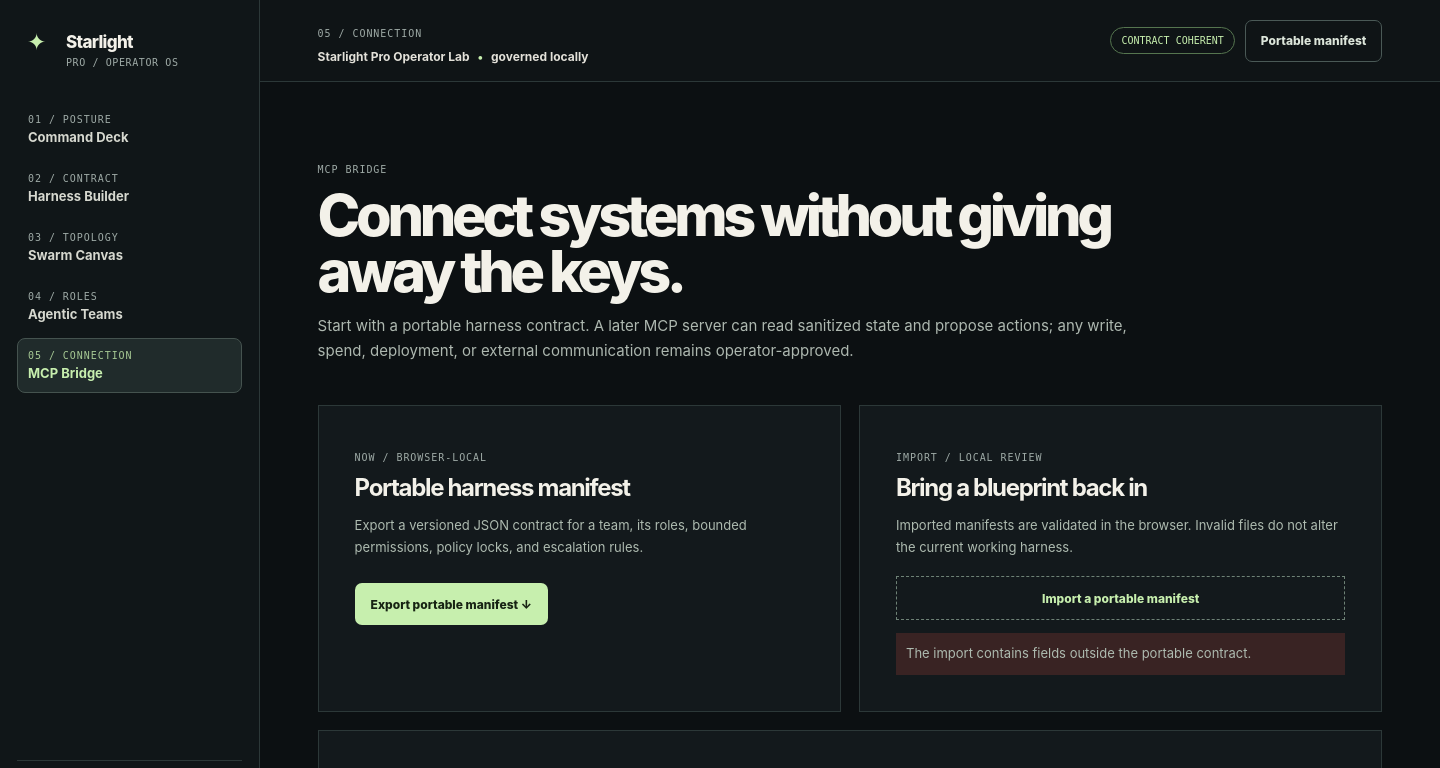
Test case: Starlight Pro workbench › rejects sensitive unknown import fields without mutating the active harness
This screenshot has width=1440, height=768.
Earlier steps of the test are not shown.
Expected: the message shows "outside the portable contract", left=906, top=645, right=1251, bottom=661
Click the button "02 / contract Harness Builder" at (130, 188), box left=17, top=161, right=242, bottom=216
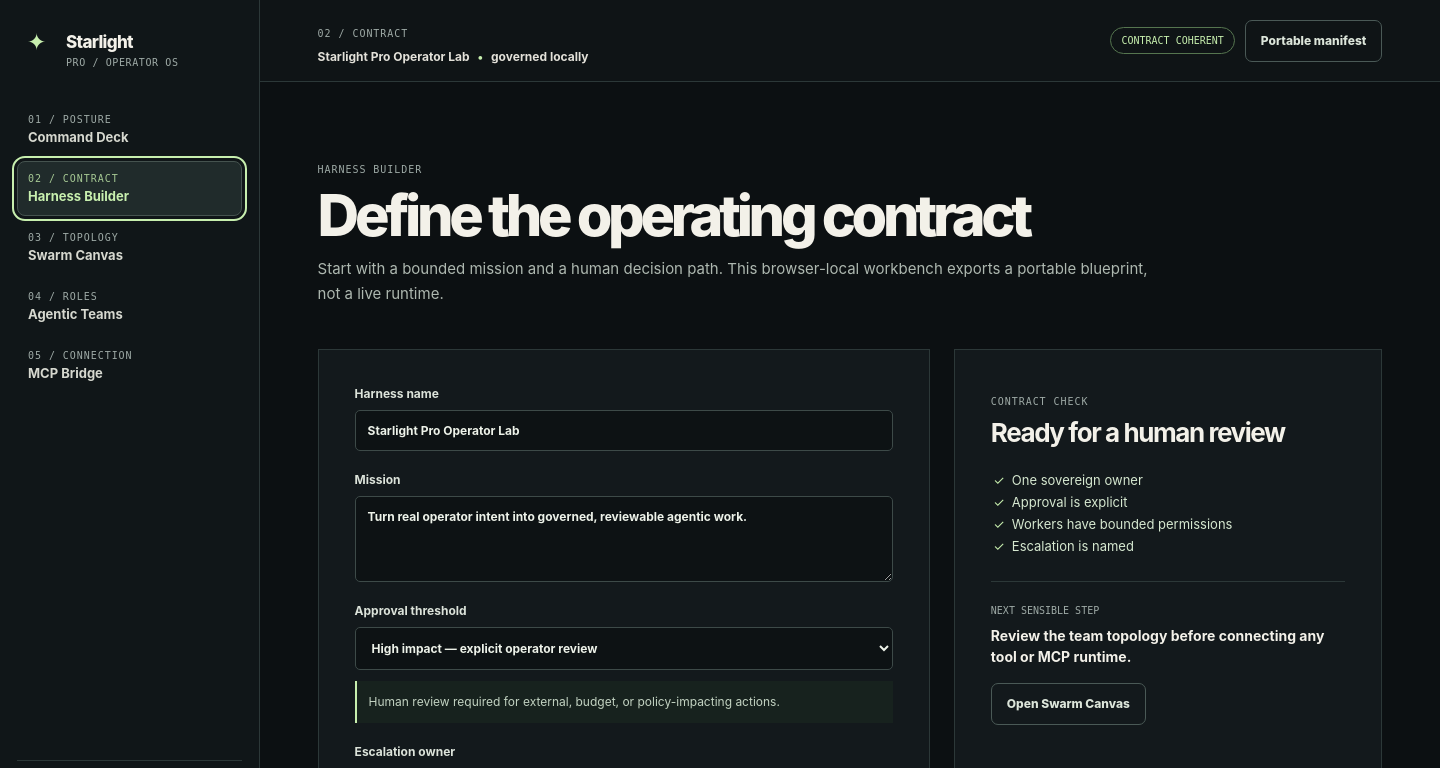
Expected: the field labelled "Harness name" holds "Starlight Pro Operator Lab", left=355, top=410, right=893, bottom=451
